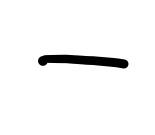minus: (38, 55, 129, 69)
